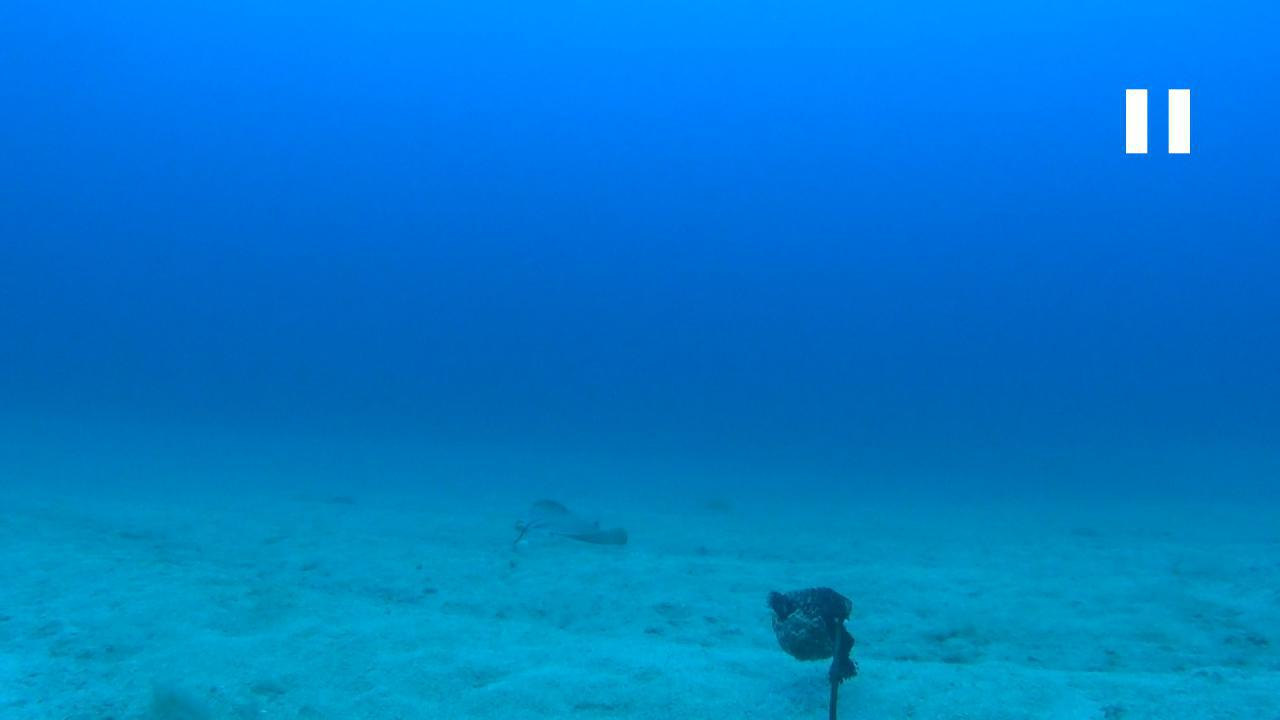dasyatis: (506, 498, 628, 557)
